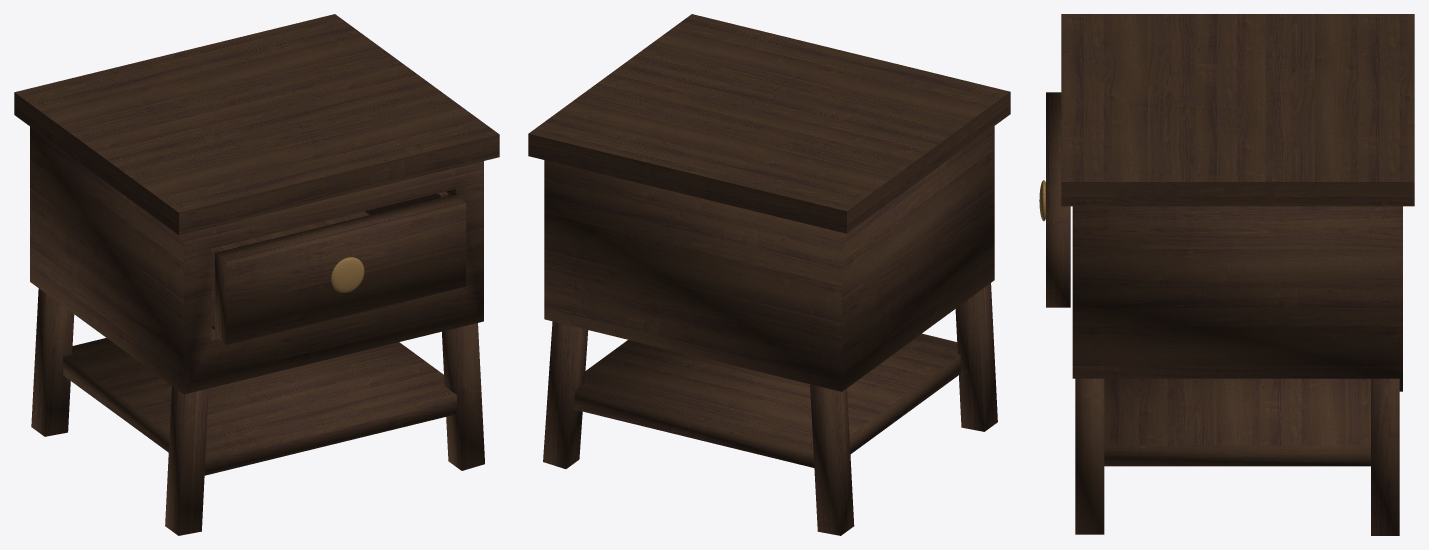
The model's file is bedside_table_before_polish.glb.
3 renders of one model, left to right at view 1: azimuth 30°, elevation 25°; view 2: azimuth 150°, elevation 25°; view 3: azimuth 270°, elevation 25°, orthographic. The views are drawn at different scales.
Visible parts, largest first — view 1: BedsideTable, BedsideTableCabinet, BedsideDrawerFront, BedsideDrawerKnob, BedsideDrawerFloor; view 2: BedsideTable, BedsideTableCabinet; view 3: BedsideTable, BedsideTableCabinet, BedsideDrawerFront.
Part boxes in pixels (x1,y1,x2,y2): BedsideTable: [14, 14, 499, 535]; BedsideTableCabinet: [30, 126, 483, 394]; BedsideDrawerFront: [215, 194, 466, 344]; BedsideDrawerKnob: [331, 257, 364, 292]; BedsideDrawerFloor: [211, 211, 369, 329]; BedsideTable: [528, 14, 1010, 535]; BedsideTableCabinet: [544, 126, 994, 391]; BedsideTable: [1061, 14, 1414, 535]; BedsideTableCabinet: [1072, 206, 1402, 378]; BedsideDrawerFront: [1046, 92, 1070, 307].
Bounding box in the file's own units: 0.4815 × 0.4811 × 0.4544.
Materials: 3 (2 with a texture image).
